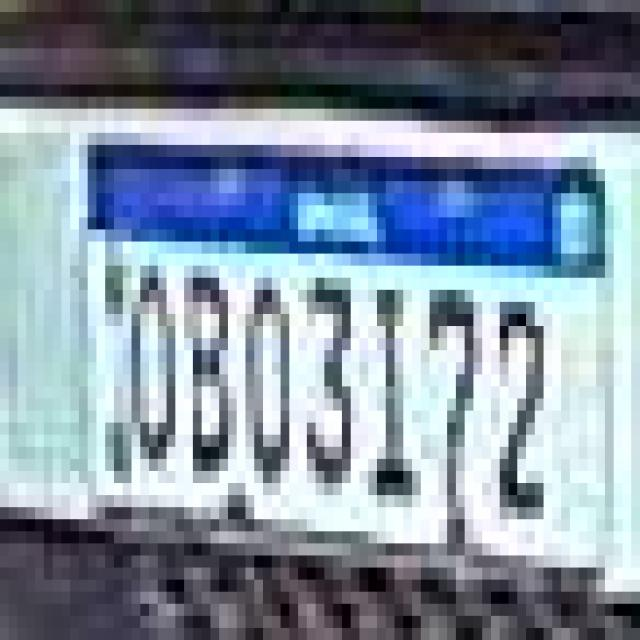3: (299, 272, 356, 488)
7: (430, 284, 484, 518)
B: (182, 255, 238, 482)
I: (364, 278, 423, 509)
O: (242, 278, 298, 493), (125, 263, 182, 472)
